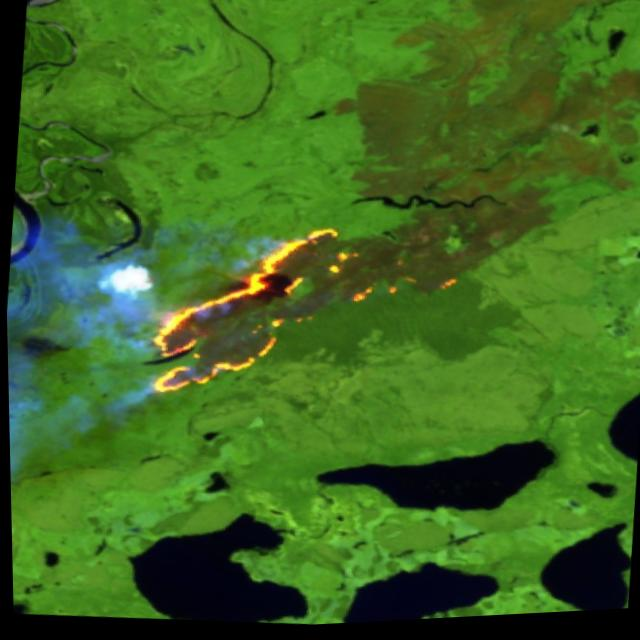fire: (135, 210, 372, 413)
